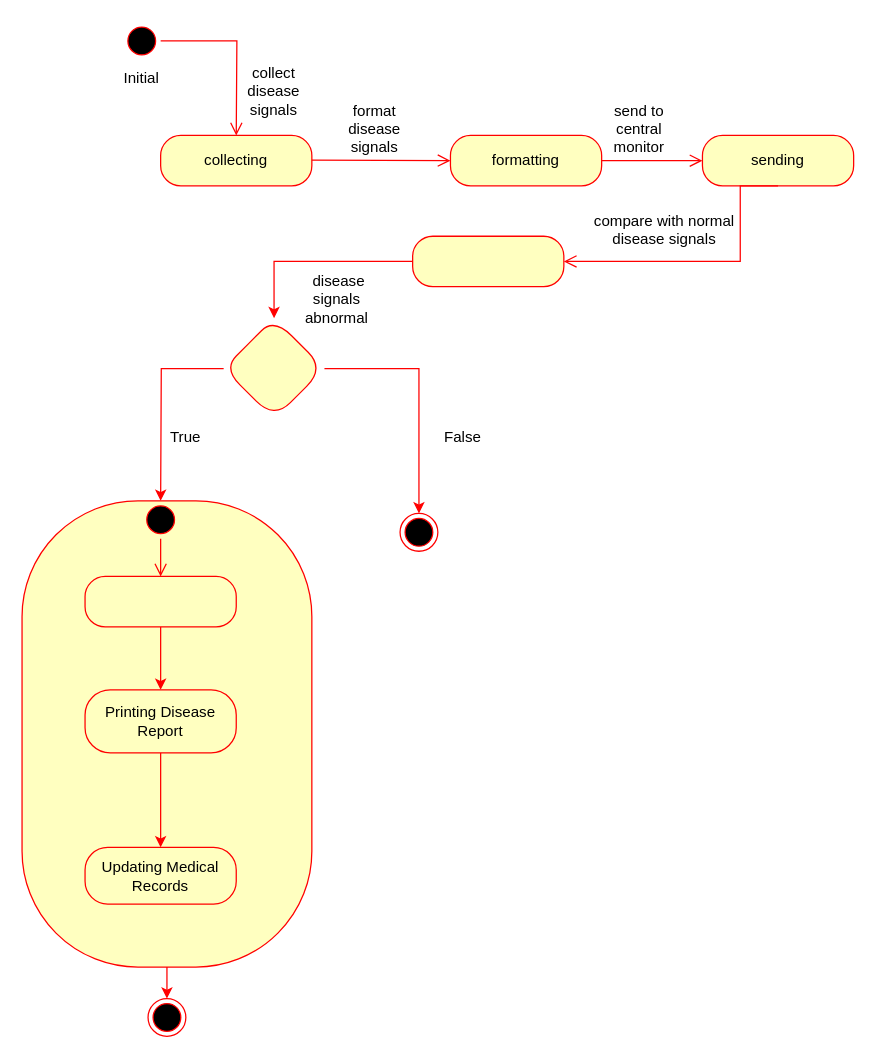
This 876x1058 diagram has some shape labels left out. Here are the shapes that lost their labels. From the top down, the centre of each, then its label:
the point at 487,261: comparing
the point at 160,601: Alarming
